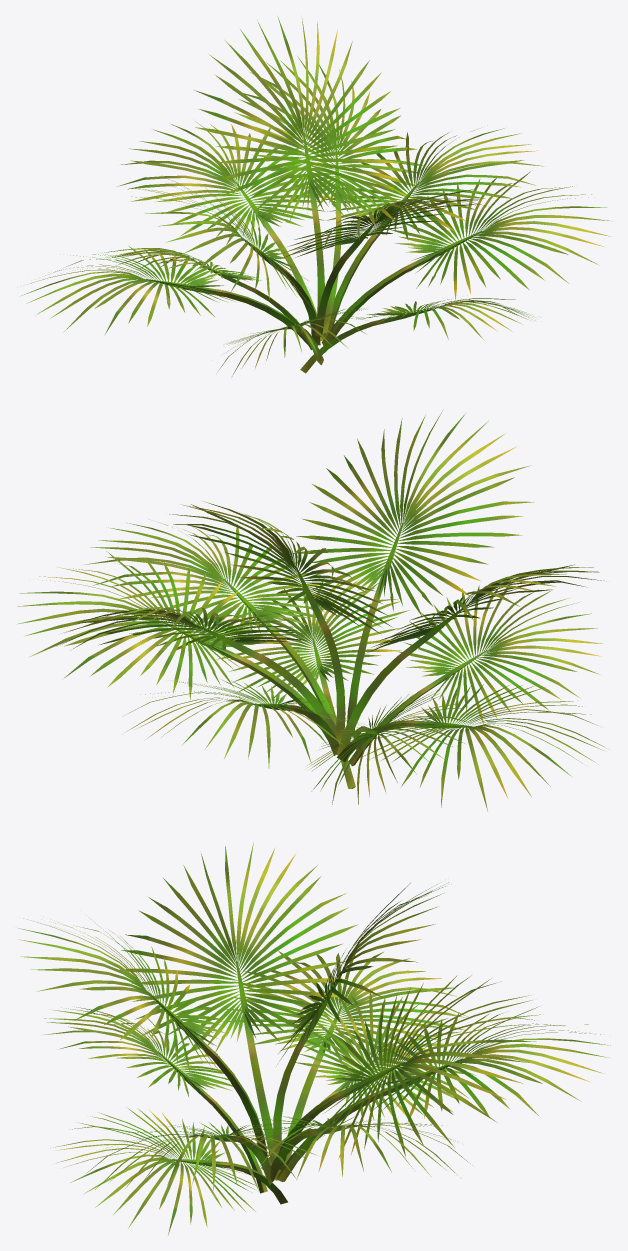
Rendered from jungle_shurb2.fbx.
The picture shows the model from 3 angles, top to bottom: view 1: azimuth 30°, elevation 25°; view 2: azimuth 150°, elevation 25°; view 3: azimuth 270°, elevation 25°; orthographic projection. The views are drawn at different scales.
Parts seen in each view (by area): view 1: Layer0; view 2: Layer0; view 3: Layer0.
Boxes of the visible parts, bbox=[...] form: Layer0: bbox=[21, 16, 612, 376]; Layer0: bbox=[17, 411, 606, 811]; Layer0: bbox=[19, 843, 610, 1235].
Bounding box in the file's own units: 8950 × 8010 × 4982.
